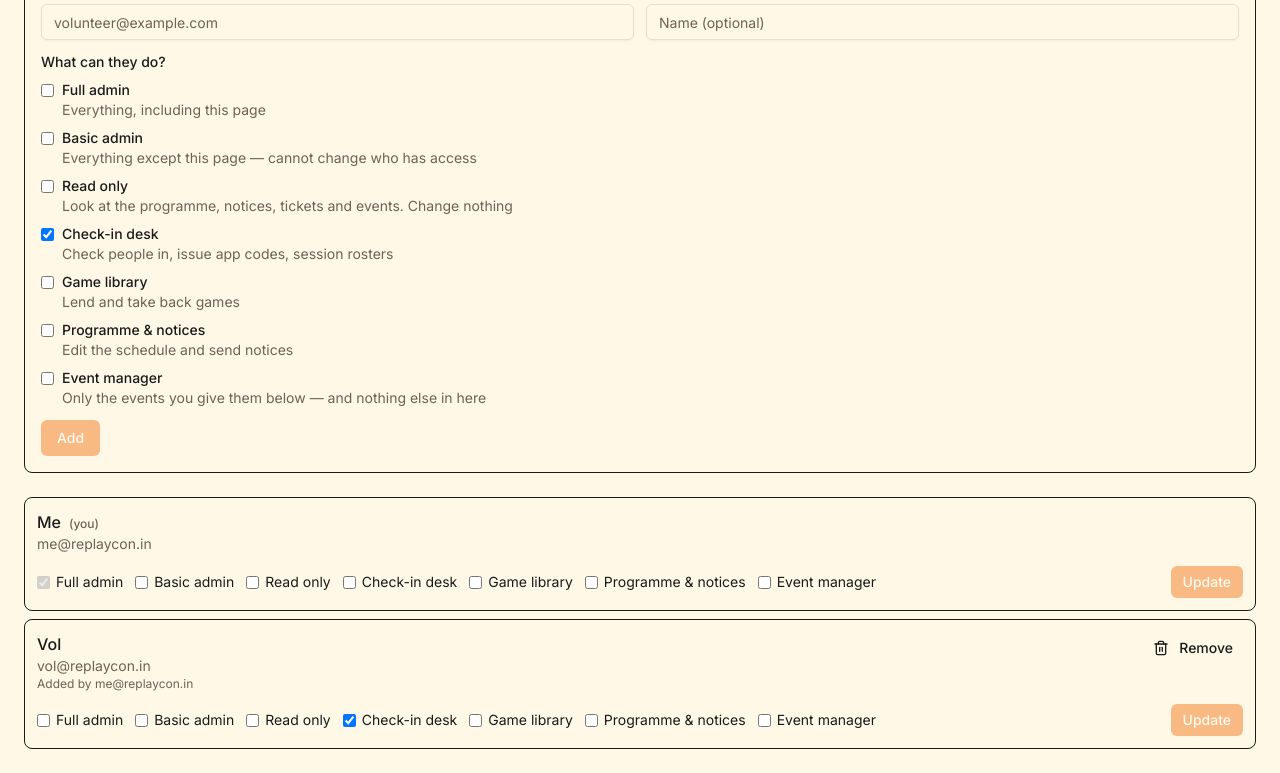
it: handing somebody the events they run › lists only sessions people can actually book
(page scrolled)
Click the 2nd checkbox labelled "Event manager" at (764,720), box [758,714,771,726]
(page scrolled)
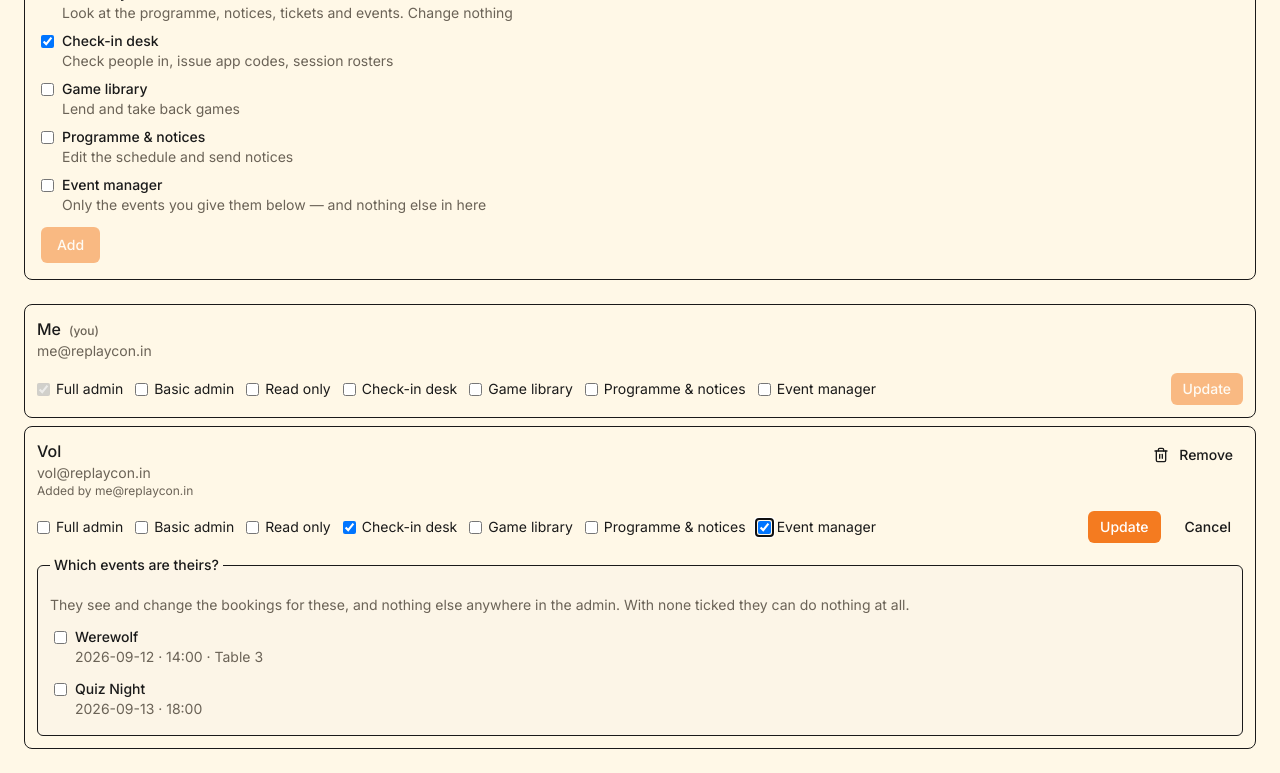
expect the checkbox labelled "Werewolf 2026-09-12 · 14:00 · Table 3" is shown: met, box [54,631,67,644]
expect the checkbox labelled "Quiz Night 2026-09-13 · 18:00" is shown: met, box [54,683,67,696]
